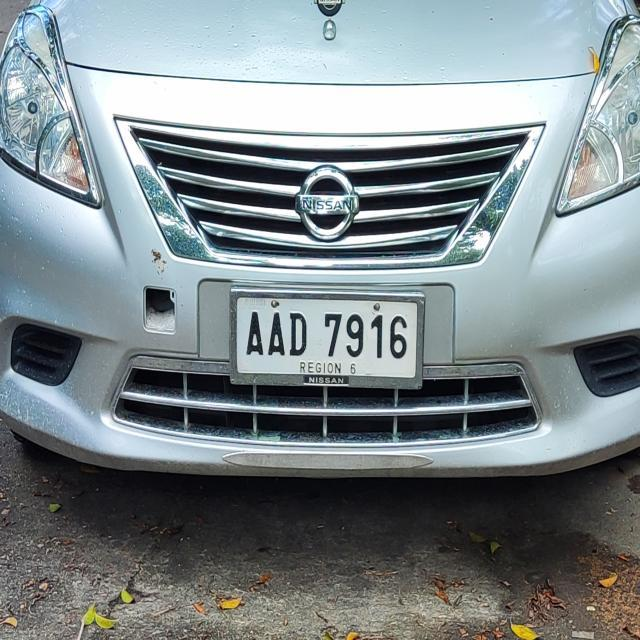LicensePlate: (225, 284, 430, 393)
